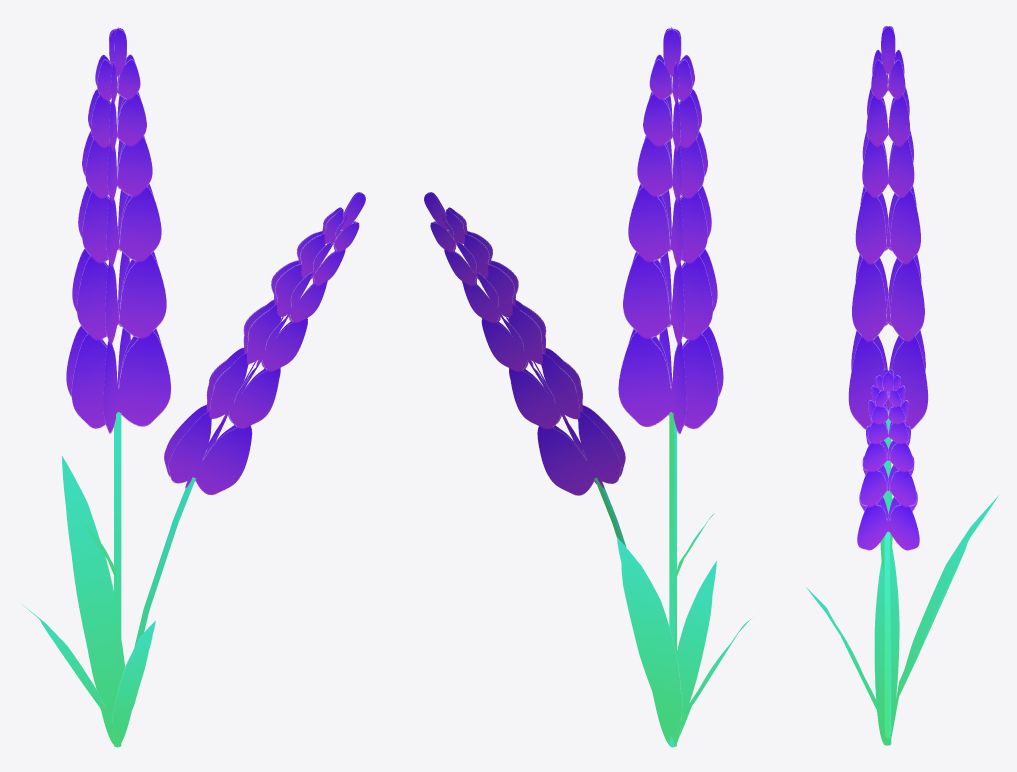
Rendered from Flowers_n03_01.fbx.
3 renders of one model, left to right at view 1: azimuth 30°, elevation 25°; view 2: azimuth 150°, elevation 25°; view 3: azimuth 270°, elevation 25°, orthographic.
Visible parts, largest first — view 1: polySurface429; view 2: polySurface429; view 3: polySurface429.
Boxes of the visible parts, x1,y1,x2,y2 form: polySurface429: (23,27,365,747); polySurface429: (424,27,750,747); polySurface429: (806,26,998,745).
Size of the model in its own units: 45.64 by 89.18 by 21.86.
1 material, 1 textured.
